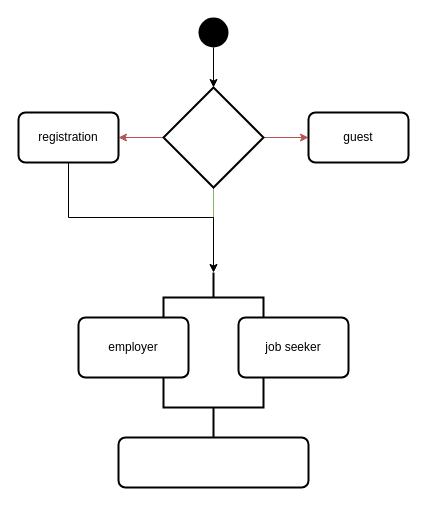
The diagram is 426 pixels wide and 505 high, and some of its shapes have lost their labels. The shapes that lost their labels are listed below. From the top down, each one's centre as x and y in pixels, then its label:
At (x=213, y=137): "logged in?".
At (x=213, y=462): "main page".
